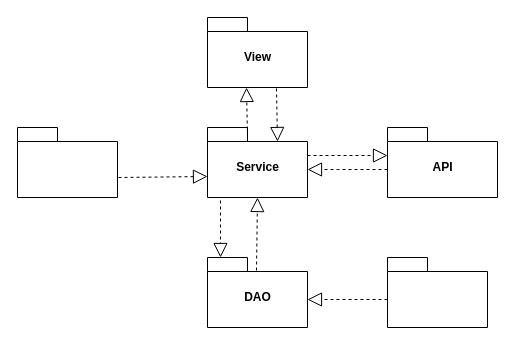
The diagram is 515 pixels wide and 345 high, and some of its shapes have lost their labels. Each missing label, with the centre of its shape:
"Metier" goes at point 67,162.
"Outils" goes at point 437,292.
